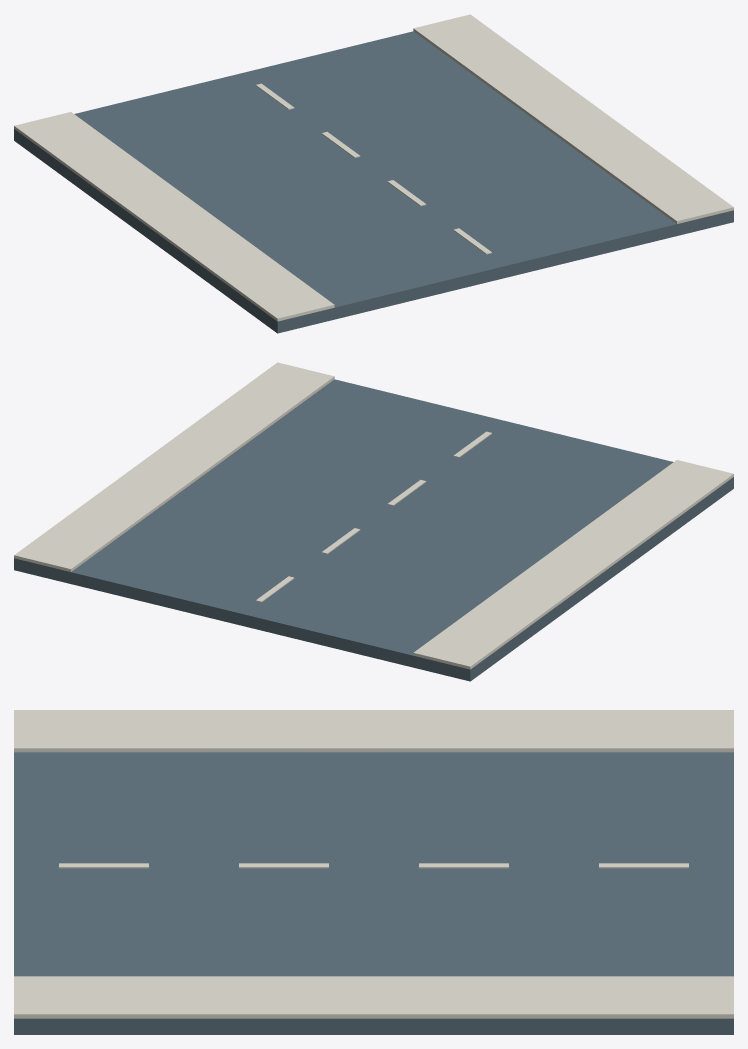
Rendered from voxel-city-districts-road-straight-c38fc583__24812.glb.
The picture shows the model from 3 angles, top to bottom: view 1: azimuth 30°, elevation 25°; view 2: azimuth 150°, elevation 25°; view 3: azimuth 270°, elevation 25°; orthographic projection. The views are drawn at different scales.
Parts seen in each view (by area): view 1: road-straight-dark, road-straight-concrete; view 2: road-straight-dark, road-straight-concrete; view 3: road-straight-dark, road-straight-concrete.
Boxes of the visible parts, x1=… form: road-straight-dark: x1=14, y1=31, x2=733, y2=333; road-straight-concrete: x1=14, y1=14, x2=733, y2=321; road-straight-dark: x1=14, y1=379, x2=733, y2=681; road-straight-concrete: x1=14, y1=362, x2=733, y2=669; road-straight-dark: x1=14, y1=752, x2=733, y2=1034; road-straight-concrete: x1=14, y1=710, x2=733, y2=1018.
Bounding box in the file's own units: 8 × 0.25 × 8.
